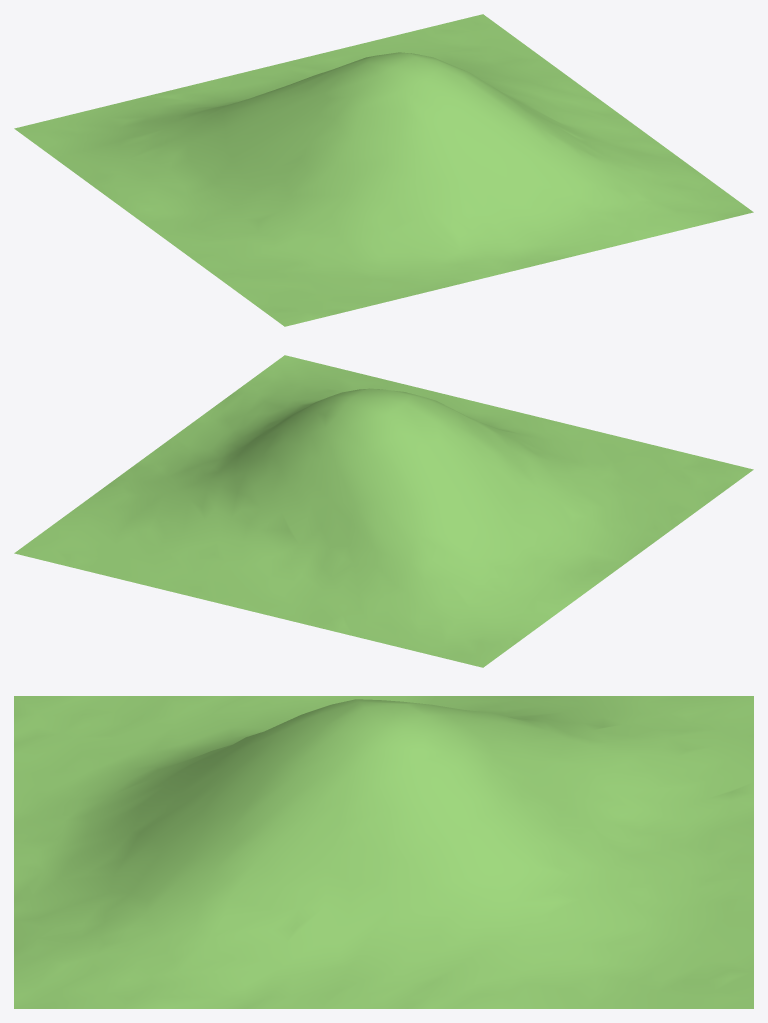
Rendered from terrain005.fbx.
3 renders of one model, top to bottom at view 1: azimuth 30°, elevation 25°; view 2: azimuth 150°, elevation 25°; view 3: azimuth 270°, elevation 25°, orthographic. The views are drawn at different scales.
Parts seen in each view (by area): view 1: Terrain_m_06; view 2: Terrain_m_06; view 3: Terrain_m_06.
Part boxes in pixels (x1=…): Terrain_m_06: x1=14, y1=14, x2=753, y2=326; Terrain_m_06: x1=14, y1=355, x2=753, y2=667; Terrain_m_06: x1=14, y1=696, x2=753, y2=1008.
Size of the model in its own units: 5000 by 5000 by 1103.
Materials: 1 (1 with a texture image).
